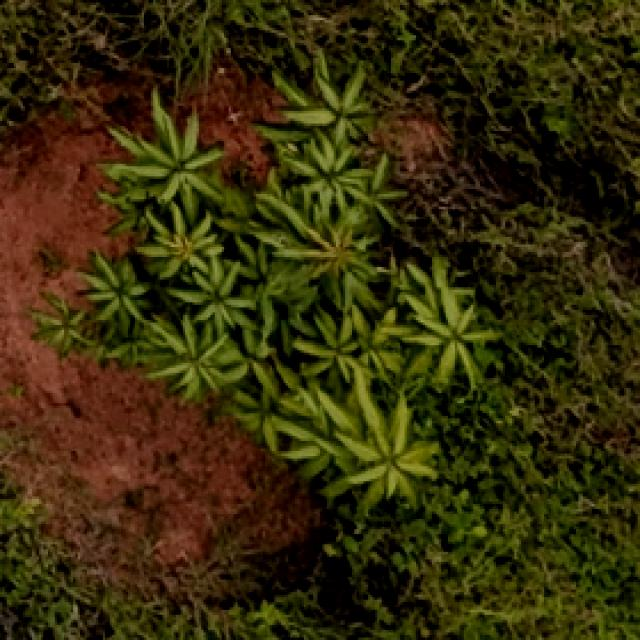mangoTree: (29, 62, 503, 524)
